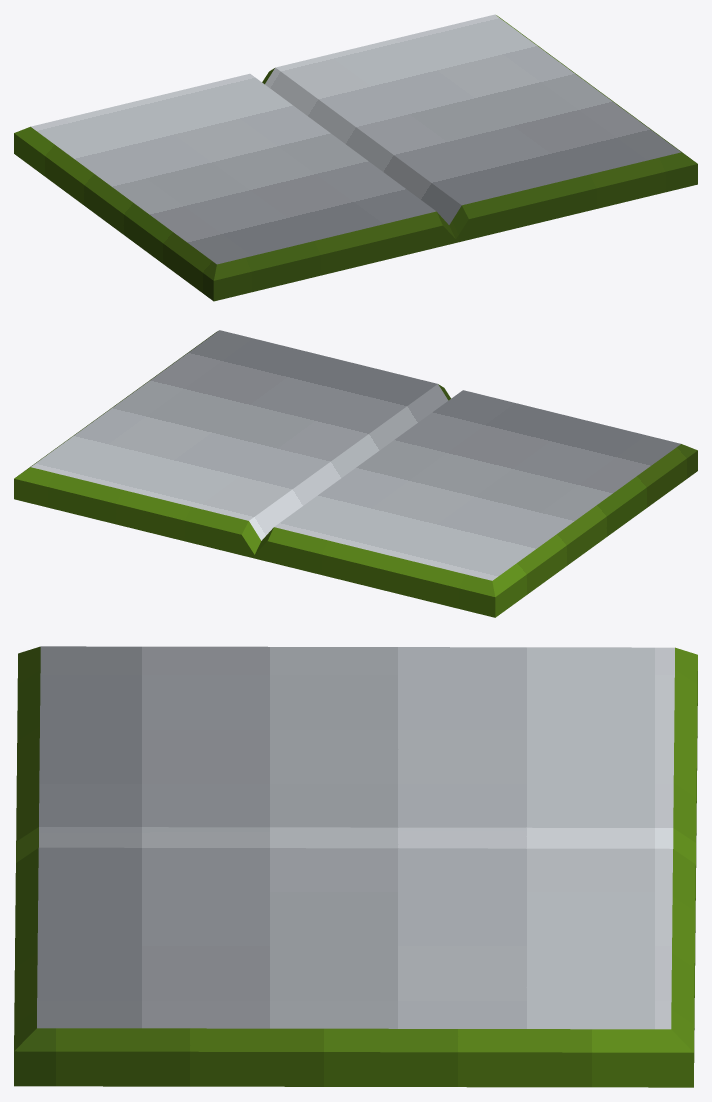
File: Comic.fbx
3 renders of one model, top to bottom at view 1: azimuth 30°, elevation 25°; view 2: azimuth 150°, elevation 25°; view 3: azimuth 270°, elevation 25°, orthographic. The views are drawn at different scales.
Parts seen in each view (by area): view 1: Comic_v1; view 2: Comic_v1; view 3: Comic_v1.
Part boxes in pixels (<box>): Comic_v1: <box>14,14,697,301</box>; Comic_v1: <box>14,330,697,617</box>; Comic_v1: <box>14,646,697,1087</box>.
Size of the model in its own units: 74.47 by 4.36 by 53.93.
